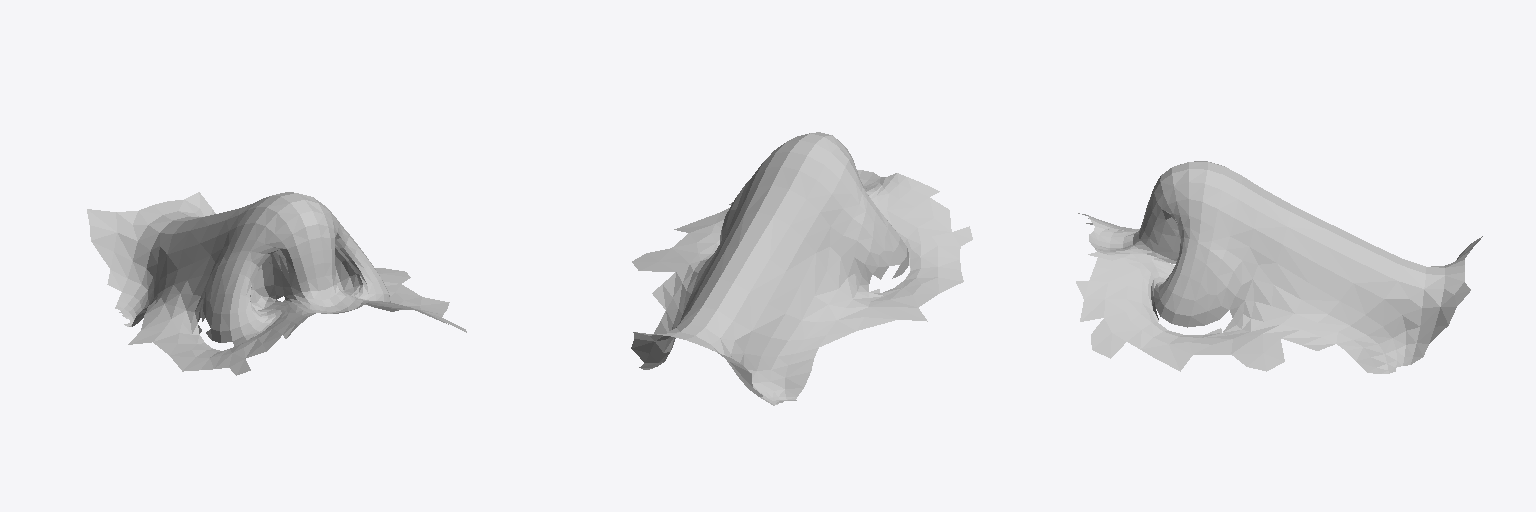
Rendered from man_nose.obj.
3 views of the same model, side by side, from view 1: azimuth 30°, elevation 25°; view 2: azimuth 150°, elevation 25°; view 3: azimuth 270°, elevation 25° (orthographic).
Visible parts, largest first — view 1: Man.004_FreeF&M_FreeF&MSTL.001; view 2: Man.004_FreeF&M_FreeF&MSTL.001; view 3: Man.004_FreeF&M_FreeF&MSTL.001.
Boxes of the visible parts, <box> form: Man.004_FreeF&M_FreeF&MSTL.001: <box>87,192,466,375</box>; Man.004_FreeF&M_FreeF&MSTL.001: <box>631,132,972,405</box>; Man.004_FreeF&M_FreeF&MSTL.001: <box>1076,161,1482,373</box>.
Size of the model in its own units: 0.3131 by 0.1844 by 0.385.